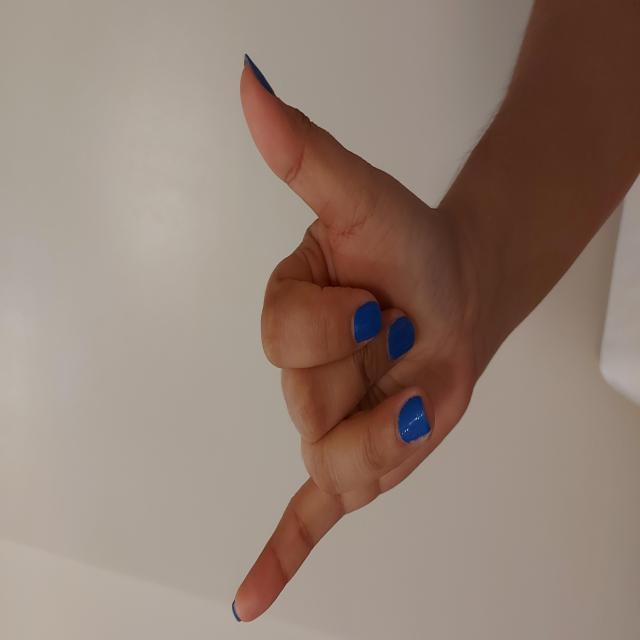Y: (15, 230, 592, 472)
